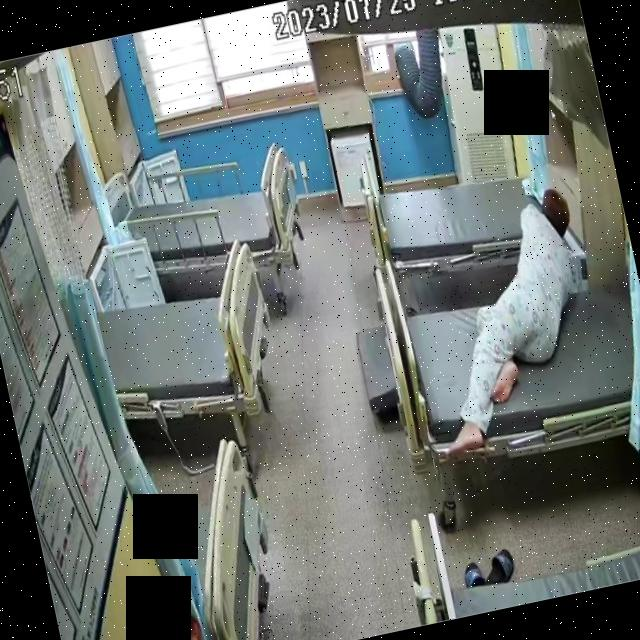bed: (397, 262, 640, 481), (86, 234, 292, 443), (101, 138, 307, 294), (358, 134, 560, 290)
danger: (396, 182, 619, 462)
patient: (397, 182, 618, 460)
